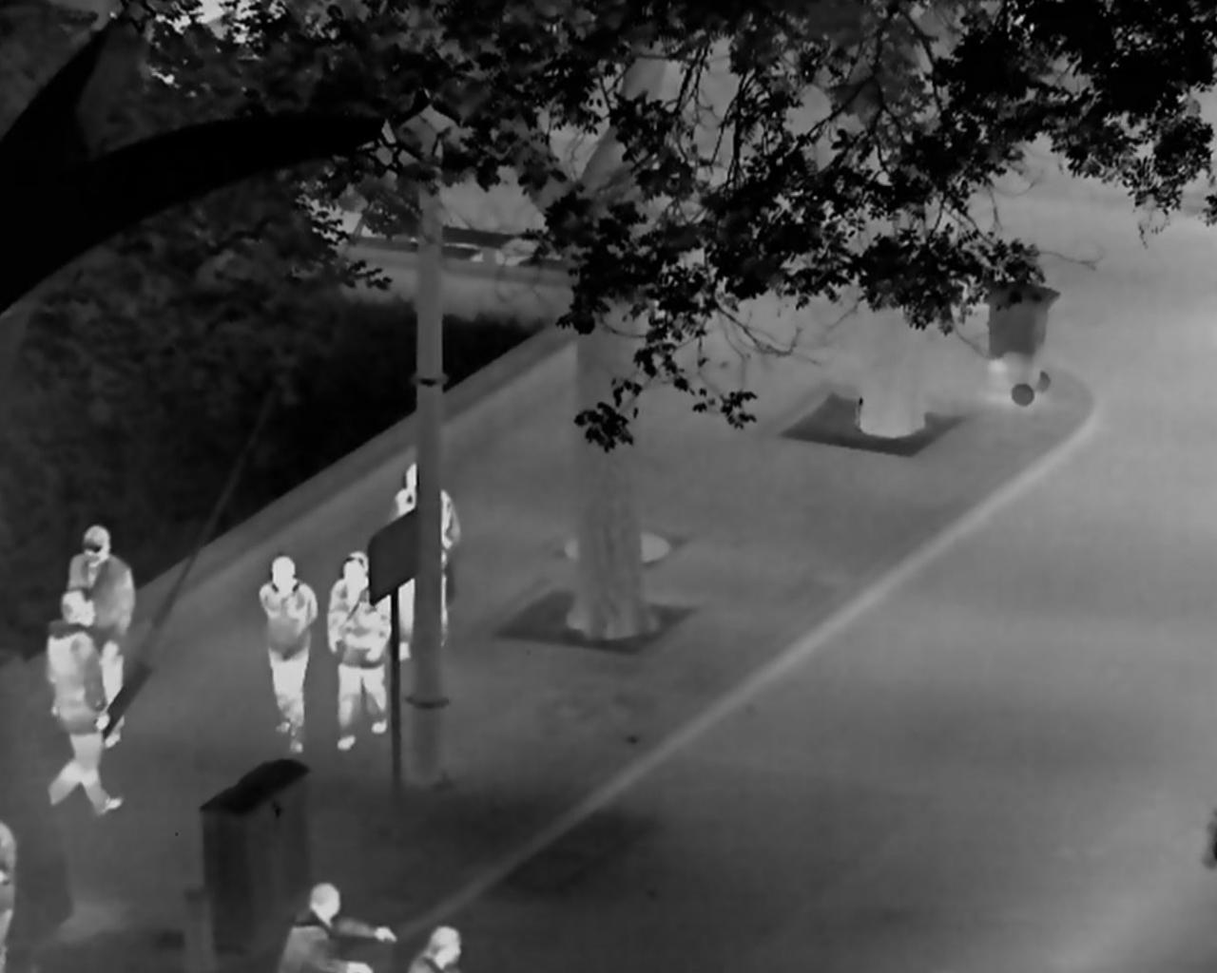person: (42, 586, 123, 815), (62, 523, 135, 747), (387, 461, 464, 663), (326, 552, 391, 752), (257, 554, 317, 752), (276, 881, 398, 973), (403, 924, 465, 973)
